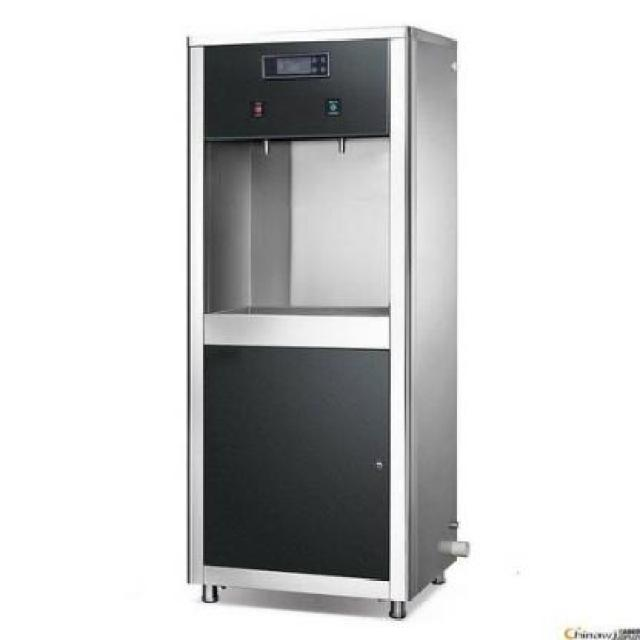cooler: (182, 23, 468, 623)
